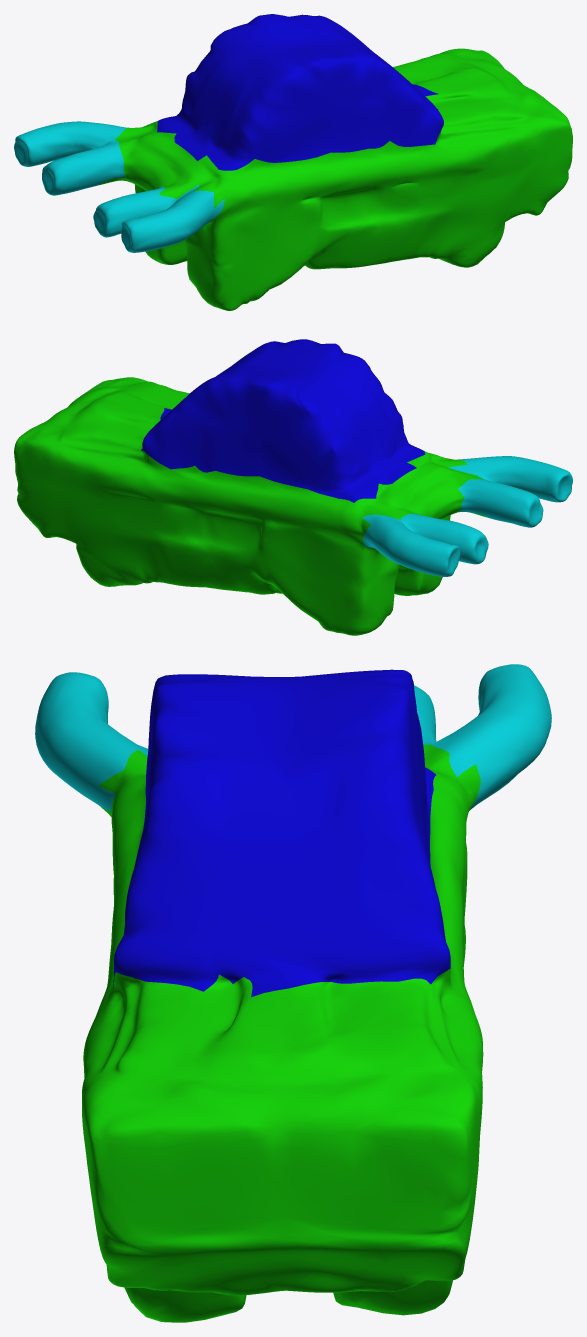
File: car2_1.fbx
The picture shows the model from 3 angles, top to bottom: view 1: azimuth 30°, elevation 25°; view 2: azimuth 150°, elevation 25°; view 3: azimuth 270°, elevation 25°; orthographic projection. The views are drawn at different scales.
Parts seen in each view (by area): view 1: Layer_1; view 2: Layer_1; view 3: Layer_1.
Part boxes in pixels (box(x1,y1,x2,y2)): Layer_1: box(14, 14, 572, 310); Layer_1: box(14, 339, 572, 635); Layer_1: box(35, 664, 551, 1322).
Bounding box in the file's own units: 156 × 78.82 × 76.69.
